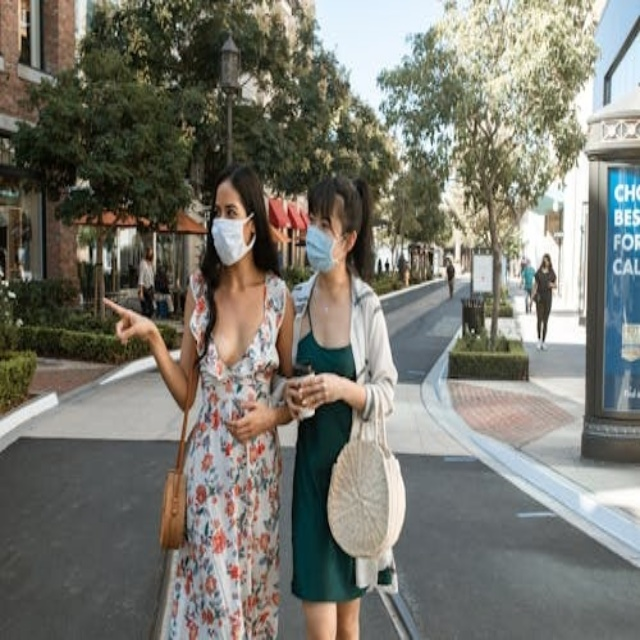Mascara: (211, 213, 257, 266), (304, 224, 346, 273), (543, 262, 549, 271)
Sin_gafas: (320, 219, 331, 232), (226, 209, 238, 218)
Sin_guantes: (97, 286, 159, 356), (230, 396, 283, 442), (290, 371, 332, 411)
